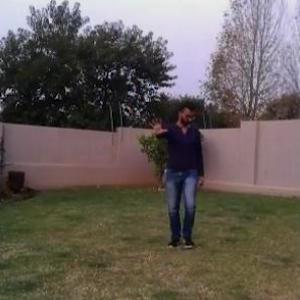follow_hand: (147, 114, 168, 137)
